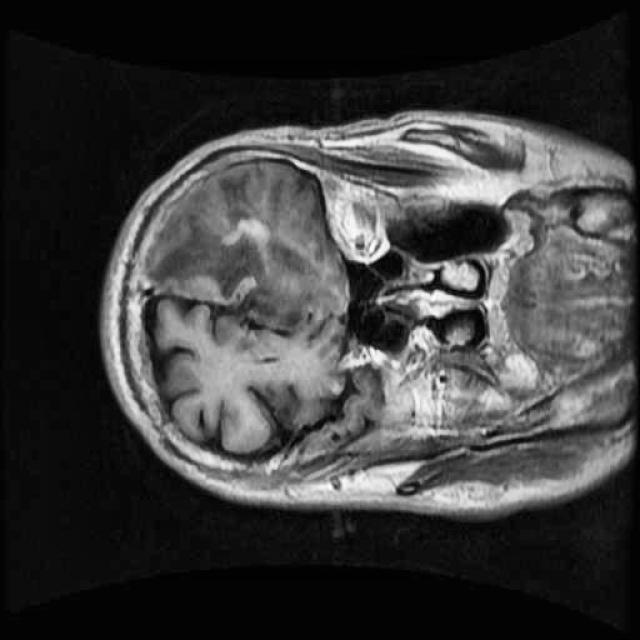Tumor: (134, 160, 352, 349)
